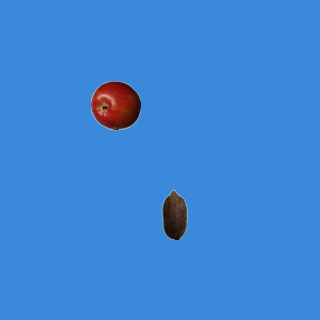Apple Braeburn: (90, 80, 140, 130)
Nut Pecan: (149, 189, 199, 239)
